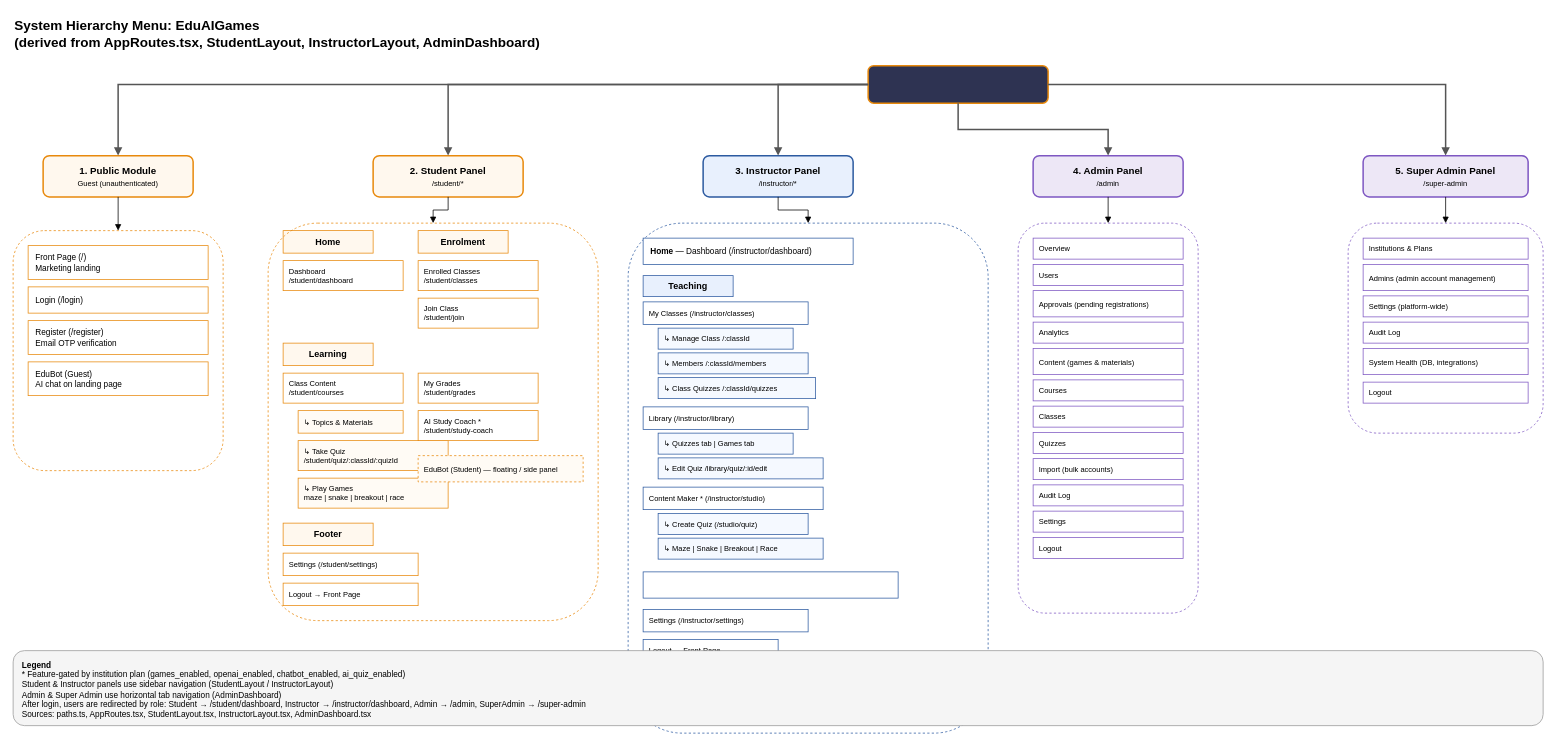
Some shapes in this 1556 by 746 pixel diagram are drawn without their labels. The centre of each missing label's shape, as x and y in pixels:
"EduAIGames System" belongs at point (957, 84).
"Insights — Student Performance (/instructor/performance)" belongs at point (770, 584).
